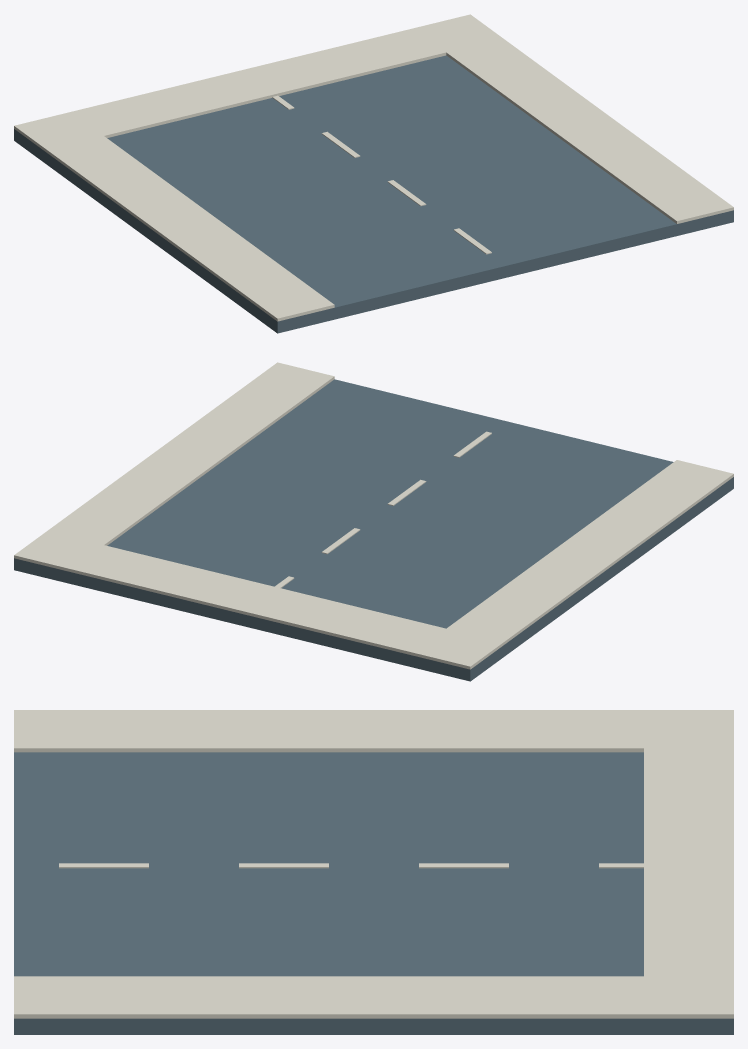
File: voxel-city-districts-road-dead-end-4aecbc7f__24816.glb
3 views of the same model, one above another, from view 1: azimuth 30°, elevation 25°; view 2: azimuth 150°, elevation 25°; view 3: azimuth 270°, elevation 25° (orthographic). The views are drawn at different scales.
Parts seen in each view (by area): view 1: road-dead-end-dark, road-dead-end-concrete; view 2: road-dead-end-dark, road-dead-end-concrete; view 3: road-dead-end-dark, road-dead-end-concrete.
Part boxes in pixels (x1,y1,x2,y2): road-dead-end-dark: (14,55,733,333); road-dead-end-concrete: (14,14,733,321); road-dead-end-dark: (14,379,733,681); road-dead-end-concrete: (14,362,733,669); road-dead-end-dark: (14,752,733,1034); road-dead-end-concrete: (14,710,733,1018).
Bounding box in the file's own units: 8 × 0.25 × 8.
